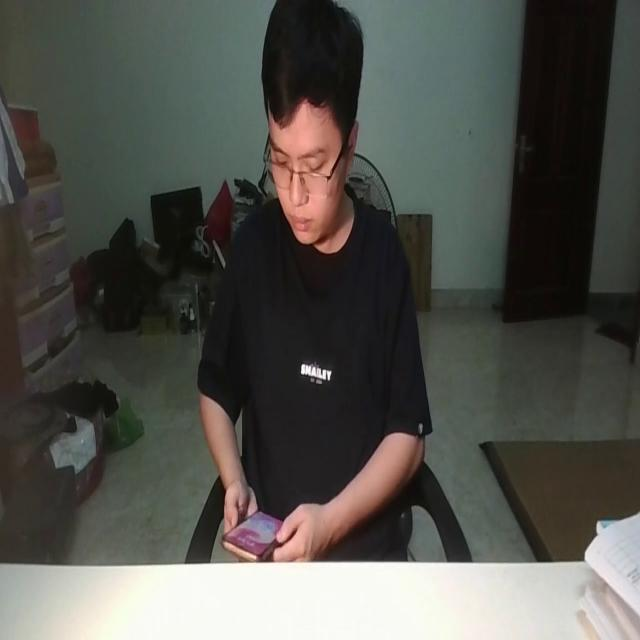phone: (219, 500, 286, 561)
student: (197, 0, 430, 563)
